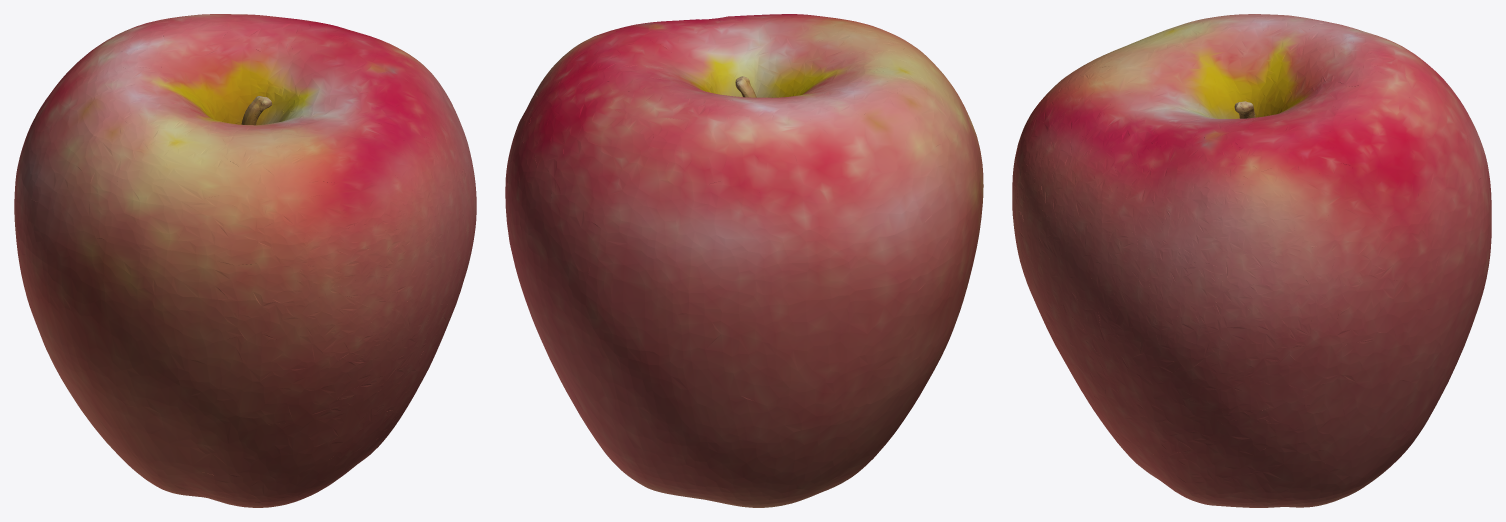
Rendered from kitchen-apple.glb.
The picture shows the model from 3 angles, left to right: view 1: azimuth 30°, elevation 25°; view 2: azimuth 150°, elevation 25°; view 3: azimuth 270°, elevation 25°; orthographic projection. The views are drawn at different scales.
Visible parts, largest first — view 1: geometry_0; view 2: geometry_0; view 3: geometry_0.
Boxes of the visible parts, x1,y1,x2,y2 form: geometry_0: [14, 14, 476, 507]; geometry_0: [505, 14, 983, 507]; geometry_0: [1012, 14, 1491, 507].
Bounding box in the file's own units: 0.9876 × 0.9501 × 0.9991.
